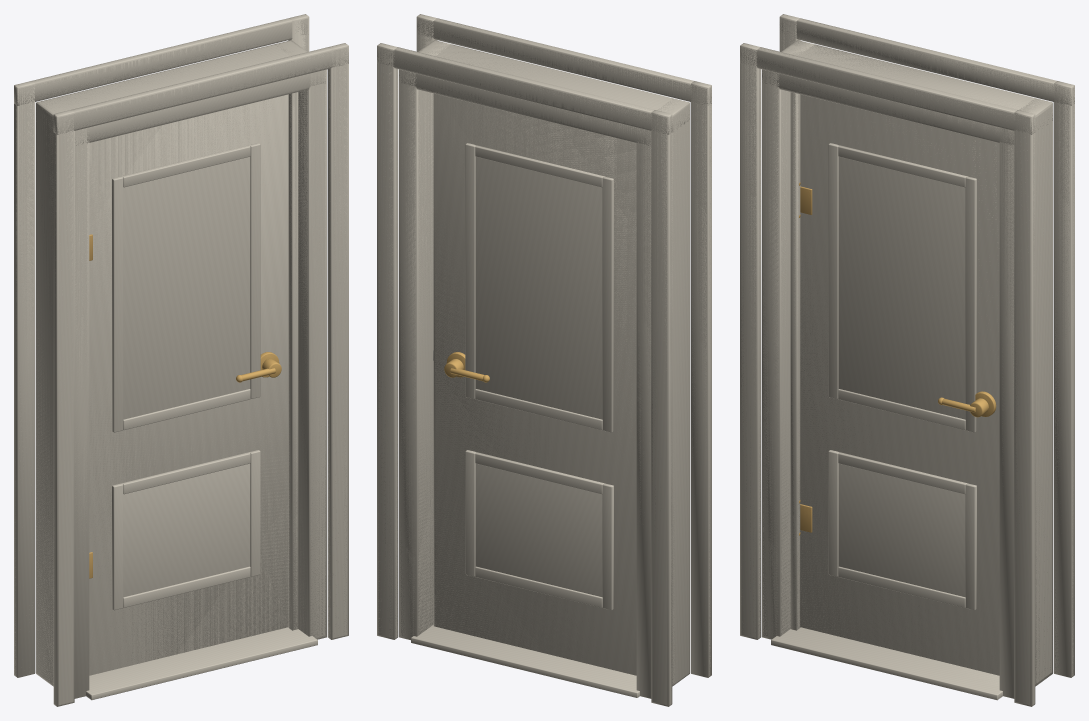
File: door_basic.glb
The picture shows the model from 3 angles, left to right: view 1: azimuth 30°, elevation 25°; view 2: azimuth 150°, elevation 25°; view 3: azimuth 330°, elevation 25°; orthographic projection.
Visible parts, largest first — view 1: MESH_LOD0_StaticFrameAssembly, MESH_LOD2_StaticFrameAssembly, MESH_LOD2_Single_Slab, MESH_LOD0_Single_UpperPanel_Exterior_Field, MESH_LOD1_Single_Slab, MESH_LOD0_Single_Slab, MESH_LOD1_StaticFrameAssembly, MESH_LOD0_Single_LowerPanel_Exterior_Field, MESH_LOD0_Single_UpperPanel_Exterior_MouldingLeft, MESH_LOD0_Single_UpperPanel_Exterior_MouldingRight, MESH_LOD0_Single_LowerPanel_Exterior_MouldingLeft, MESH_LOD0_Single_UpperPanel_Exterior_MouldingTop (+4 smaller); view 2: MESH_LOD0_StaticFrameAssembly, MESH_LOD2_StaticFrameAssembly, MESH_LOD1_Single_Slab, MESH_LOD0_Single_UpperPanel_Interior_Field, MESH_LOD0_Single_Slab, MESH_LOD1_StaticFrameAssembly, MESH_LOD2_Single_Slab, MESH_LOD0_Single_LowerPanel_Interior_Field, MESH_LOD0_Single_UpperPanel_Interior_MouldingLeft, MESH_LOD0_Single_UpperPanel_Interior_MouldingRight, MESH_LOD0_Single_UpperPanel_Interior_MouldingTop, MESH_LOD0_Single_LowerPanel_Interior_MouldingTop (+4 smaller); view 3: MESH_LOD0_StaticFrameAssembly, MESH_LOD2_StaticFrameAssembly, MESH_LOD0_Single_Slab, MESH_LOD0_Single_UpperPanel_Exterior_Field, MESH_LOD1_StaticFrameAssembly, MESH_LOD0_Single_LowerPanel_Exterior_Field, MESH_LOD1_Single_Slab, MESH_LOD0_Single_UpperPanel_Exterior_MouldingRight, MESH_LOD0_Single_UpperPanel_Exterior_MouldingLeft, MESH_LOD2_Single_Slab, MESH_LOD0_Single_LowerPanel_Exterior_MouldingTop, MESH_LOD0_Single_UpperPanel_Exterior_MouldingTop (+5 smaller).
Boxes of the visible parts, x1,y1,x2,y2 form: MESH_LOD0_StaticFrameAssembly: (14,14,347,705); MESH_LOD2_StaticFrameAssembly: (14,14,348,706); MESH_LOD2_Single_Slab: (89,94,288,663); MESH_LOD0_Single_UpperPanel_Exterior_Field: (123,157,250,419); MESH_LOD1_Single_Slab: (89,110,288,675); MESH_LOD0_Single_Slab: (89,96,288,673); MESH_LOD1_StaticFrameAssembly: (36,41,325,700); MESH_LOD0_Single_LowerPanel_Exterior_Field: (123,463,250,597); MESH_LOD0_Single_UpperPanel_Exterior_MouldingLeft: (112,177,123,432); MESH_LOD0_Single_UpperPanel_Exterior_MouldingRight: (250,143,260,398); MESH_LOD0_Single_LowerPanel_Exterior_MouldingLeft: (112,483,123,610); MESH_LOD0_Single_UpperPanel_Exterior_MouldingTop: (123,146,250,187); MESH_LOD0_StaticFrameAssembly: (378,14,711,705); MESH_LOD2_StaticFrameAssembly: (377,14,711,706); MESH_LOD1_Single_Slab: (434,94,636,675); MESH_LOD0_Single_UpperPanel_Interior_Field: (475,157,602,419); MESH_LOD0_Single_Slab: (435,94,636,664); MESH_LOD1_StaticFrameAssembly: (400,41,689,697); MESH_LOD2_Single_Slab: (433,93,636,657); MESH_LOD0_Single_LowerPanel_Interior_Field: (475,463,602,597); MESH_LOD0_Single_UpperPanel_Interior_MouldingLeft: (602,177,613,432); MESH_LOD0_Single_UpperPanel_Interior_MouldingRight: (465,143,475,398); MESH_LOD0_Single_UpperPanel_Interior_MouldingTop: (475,146,602,187); MESH_LOD0_Single_LowerPanel_Interior_MouldingTop: (475,453,602,494); MESH_LOD0_StaticFrameAssembly: (741,14,1074,705); MESH_LOD2_StaticFrameAssembly: (740,14,1074,706); MESH_LOD0_Single_Slab: (800,94,999,675); MESH_LOD0_Single_UpperPanel_Exterior_Field: (838,157,965,419); MESH_LOD1_StaticFrameAssembly: (763,41,1052,700); MESH_LOD0_Single_LowerPanel_Exterior_Field: (838,463,965,597); MESH_LOD1_Single_Slab: (800,176,999,675); MESH_LOD0_Single_UpperPanel_Exterior_MouldingRight: (965,177,976,432); MESH_LOD0_Single_UpperPanel_Exterior_MouldingLeft: (828,143,838,398); MESH_LOD2_Single_Slab: (800,95,999,651); MESH_LOD0_Single_LowerPanel_Exterior_MouldingTop: (838,453,965,494); MESH_LOD0_Single_UpperPanel_Exterior_MouldingTop: (838,146,965,187).
Size of what is drawn, in the model's own units: 1.14 by 2.19 by 0.3035.
5 materials, 1 textured.
